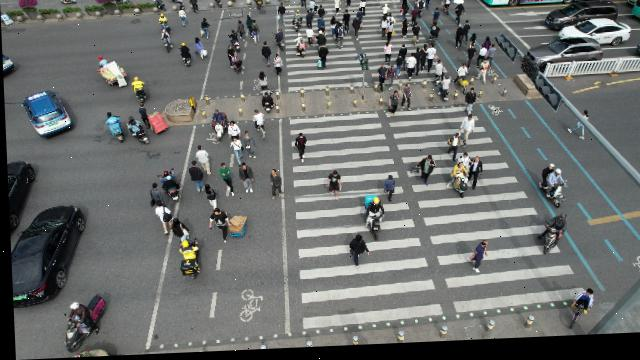non-motor-vehicle: (59, 295, 106, 354), (536, 165, 567, 215), (535, 217, 567, 259), (358, 197, 385, 246), (564, 294, 593, 335), (174, 239, 201, 283), (96, 55, 128, 89), (444, 162, 468, 202), (154, 169, 181, 204), (125, 117, 148, 146), (104, 112, 124, 145), (209, 111, 228, 144), (450, 67, 469, 99), (251, 111, 267, 145), (130, 77, 147, 104), (258, 88, 274, 116), (435, 79, 450, 106), (159, 29, 174, 55), (177, 44, 192, 69), (270, 30, 285, 55), (226, 31, 241, 55), (293, 36, 307, 61), (427, 25, 441, 49), (433, 64, 445, 90), (291, 12, 304, 35), (158, 15, 172, 36), (410, 26, 421, 51), (416, 1, 426, 22), (441, 0, 451, 20), (308, 1, 319, 19), (152, 0, 167, 13), (381, 7, 391, 22), (253, 0, 264, 13), (115, 0, 134, 7), (212, 0, 223, 11), (175, 0, 184, 13), (60, 0, 76, 6), (168, 0, 179, 4), (226, 0, 236, 4), (277, 0, 285, 4)
person: (206, 209, 247, 246), (406, 159, 436, 191), (464, 243, 488, 278), (346, 236, 368, 272), (455, 118, 475, 150), (147, 184, 166, 214), (186, 162, 203, 195), (154, 201, 170, 236), (218, 165, 234, 200), (193, 146, 210, 178), (235, 165, 252, 197), (225, 47, 243, 77), (226, 122, 242, 154), (324, 173, 340, 204), (467, 161, 482, 194), (444, 136, 459, 167), (267, 170, 281, 203), (201, 184, 217, 212), (170, 219, 187, 245), (293, 135, 306, 167), (241, 132, 255, 161), (381, 178, 395, 207), (474, 62, 488, 89), (229, 140, 242, 168), (452, 3, 466, 29), (386, 94, 399, 121), (463, 92, 475, 121), (417, 47, 428, 78), (456, 156, 469, 182), (259, 43, 271, 71), (193, 38, 207, 62), (316, 45, 328, 73), (399, 87, 411, 115), (425, 47, 436, 77), (385, 68, 397, 95), (484, 49, 497, 73), (396, 47, 408, 73), (376, 67, 386, 98), (453, 28, 464, 56), (405, 56, 416, 84), (315, 34, 327, 58), (198, 19, 210, 41), (460, 24, 471, 48), (466, 48, 476, 73), (257, 73, 268, 95), (316, 17, 327, 39), (394, 57, 404, 81), (251, 21, 260, 47), (272, 56, 282, 79), (276, 5, 286, 28), (352, 19, 361, 44), (383, 44, 392, 69), (305, 28, 315, 50), (412, 50, 419, 81), (342, 13, 351, 37), (478, 48, 487, 72), (385, 25, 394, 48), (336, 28, 344, 53), (236, 22, 245, 44), (400, 21, 409, 43), (178, 9, 188, 28), (305, 14, 314, 35), (245, 17, 253, 40), (356, 11, 364, 34), (399, 0, 410, 16), (467, 38, 477, 55), (359, 0, 367, 21), (411, 10, 419, 31), (432, 10, 440, 31), (188, 0, 199, 15), (329, 20, 336, 43), (481, 40, 491, 56), (380, 19, 387, 41), (386, 17, 395, 34), (333, 0, 341, 19), (335, 24, 341, 47), (424, 0, 433, 14), (318, 8, 326, 22), (299, 0, 308, 11), (346, 0, 353, 12), (416, 0, 425, 9)
